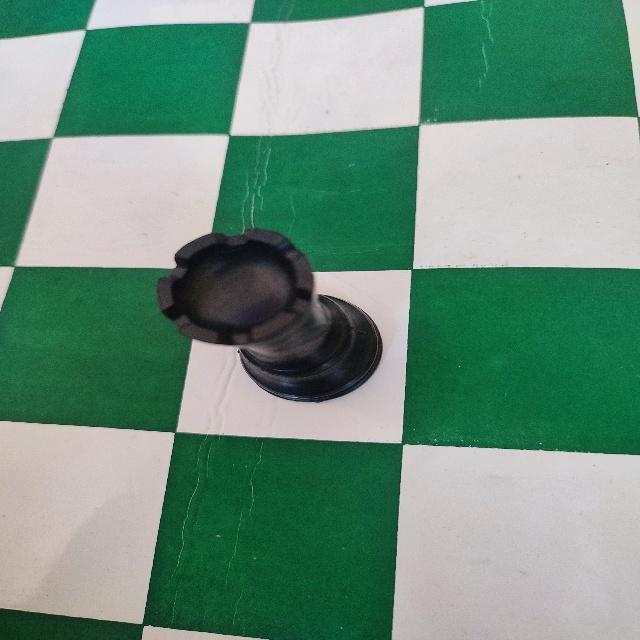Rook: (153, 224, 385, 407)
